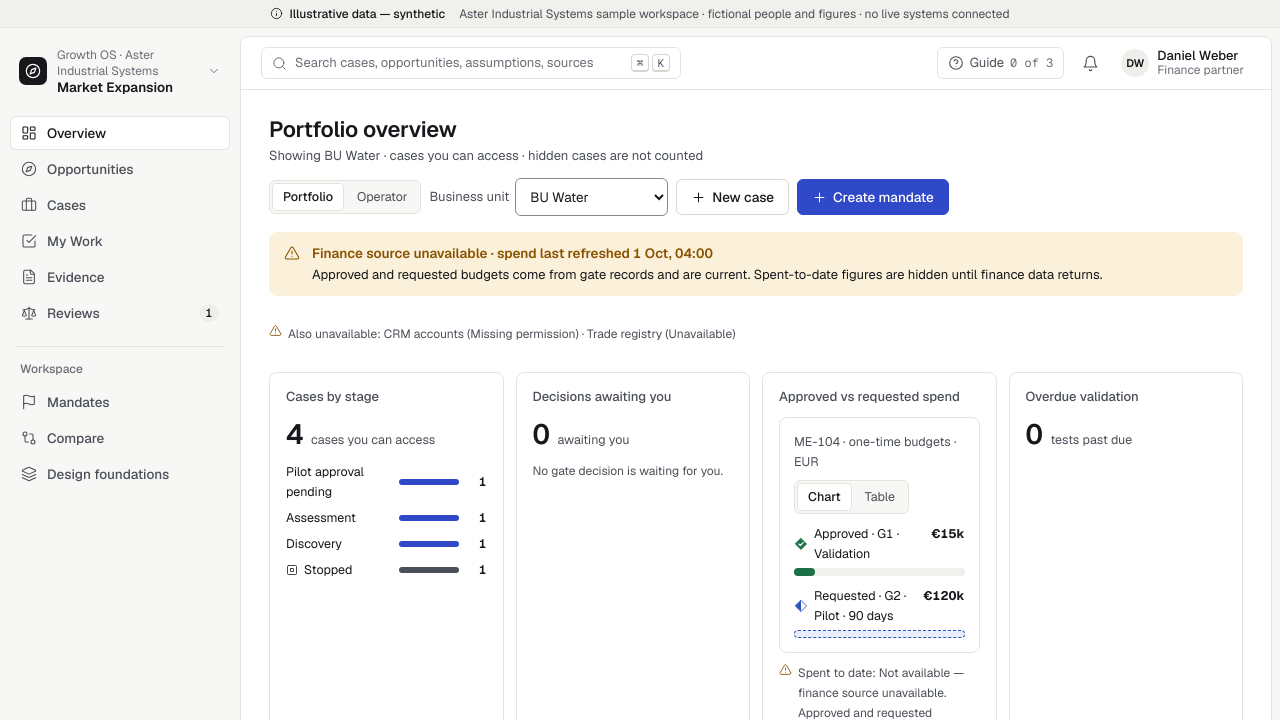
Scenario: coach marks › Show me anchors a non-modal dialog to a real element, moves focus in, and Escape returns it
Click the button "Guide 0 of 3": coordinates (1001, 63) [937,47,1064,79]
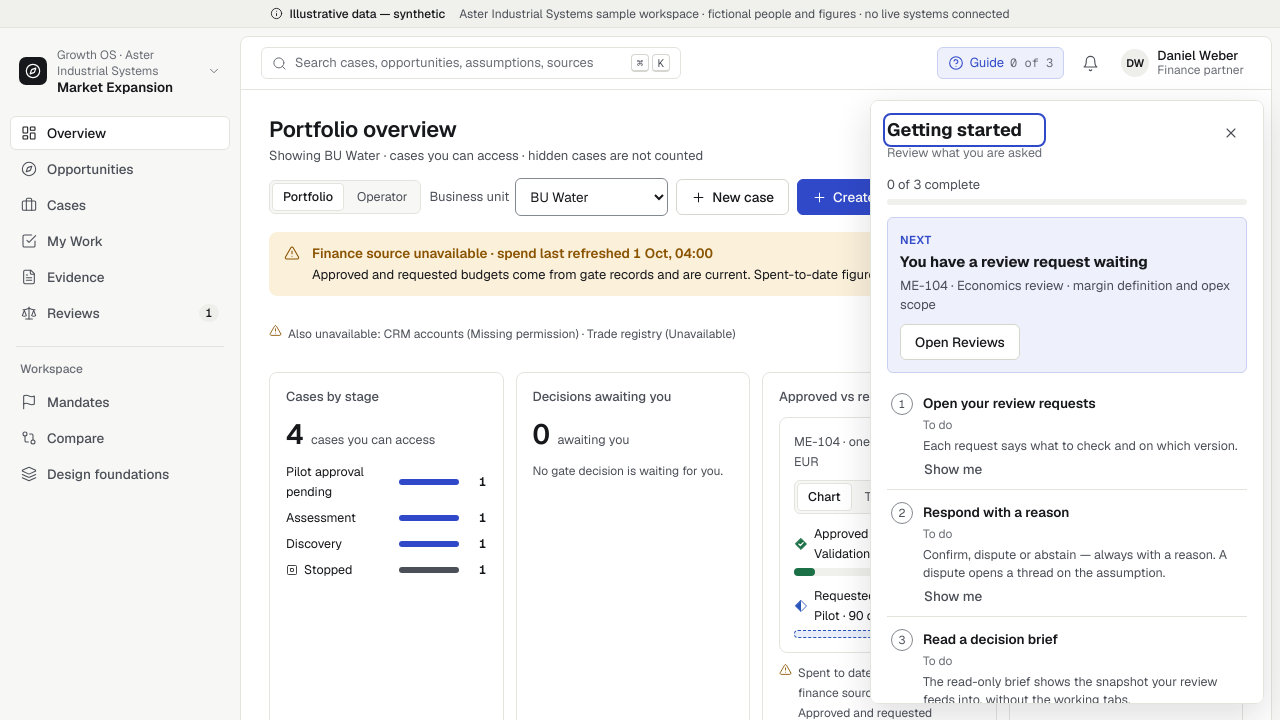
Click the button with aria-label "Show me: Open your review requests": coordinates (960, 469) [923,457,997,481]
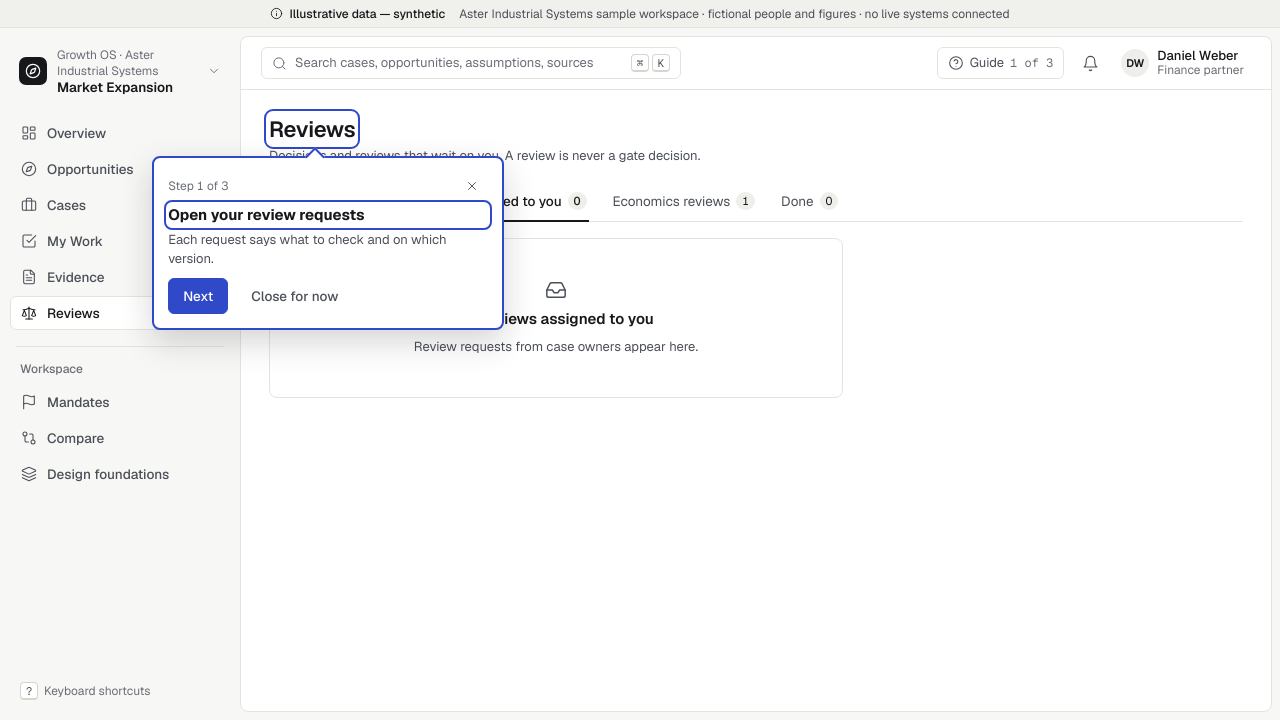
Check: the heading "Reviews" is shown, box [269,114,355,144]
Press Escape in the dialog "Open your review requests", box [152,156,504,330]
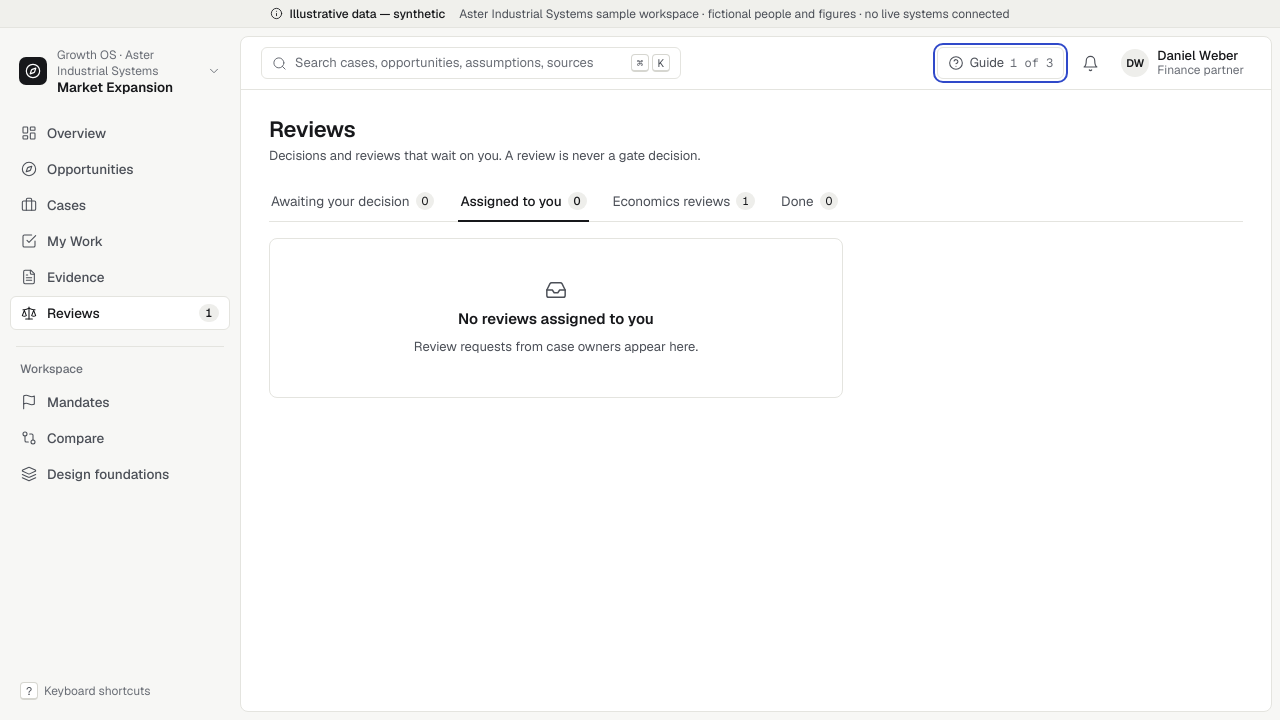
Check: the heading "Open your review requests" is gone
